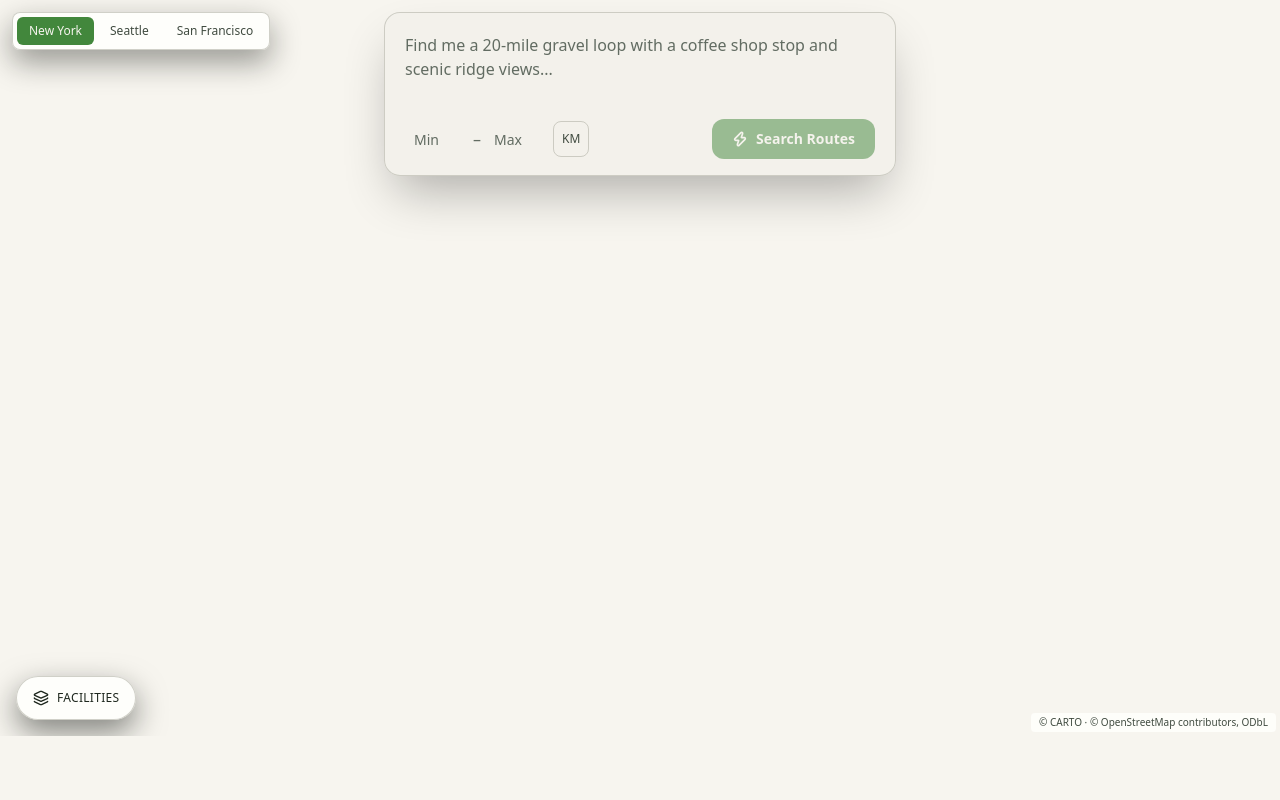
MapExplorer — map-tab search › renders the error state in the panel when the search fails
Replace the text in the text box with "quiet loop" at (640, 65), box [389,17,891,113]
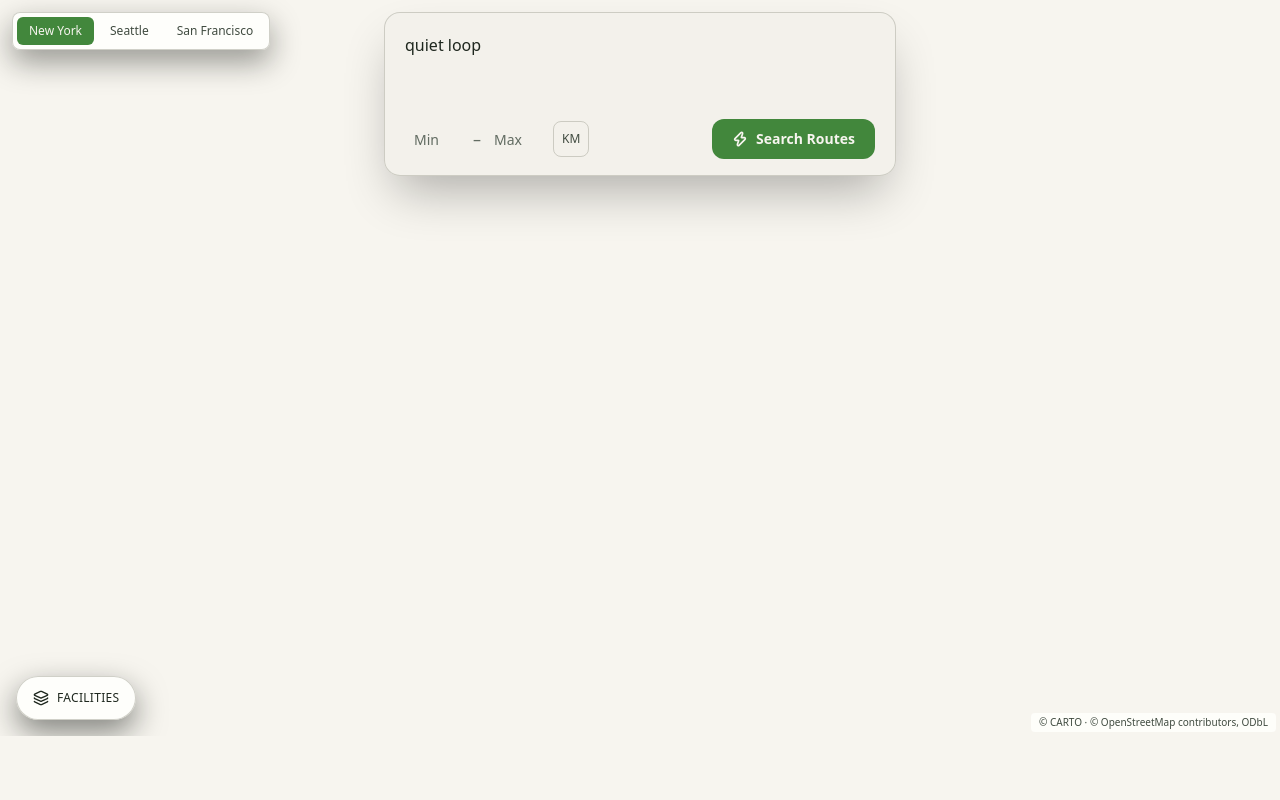
Click the button "Search Routes" at (794, 139), box [712,119,875,159]
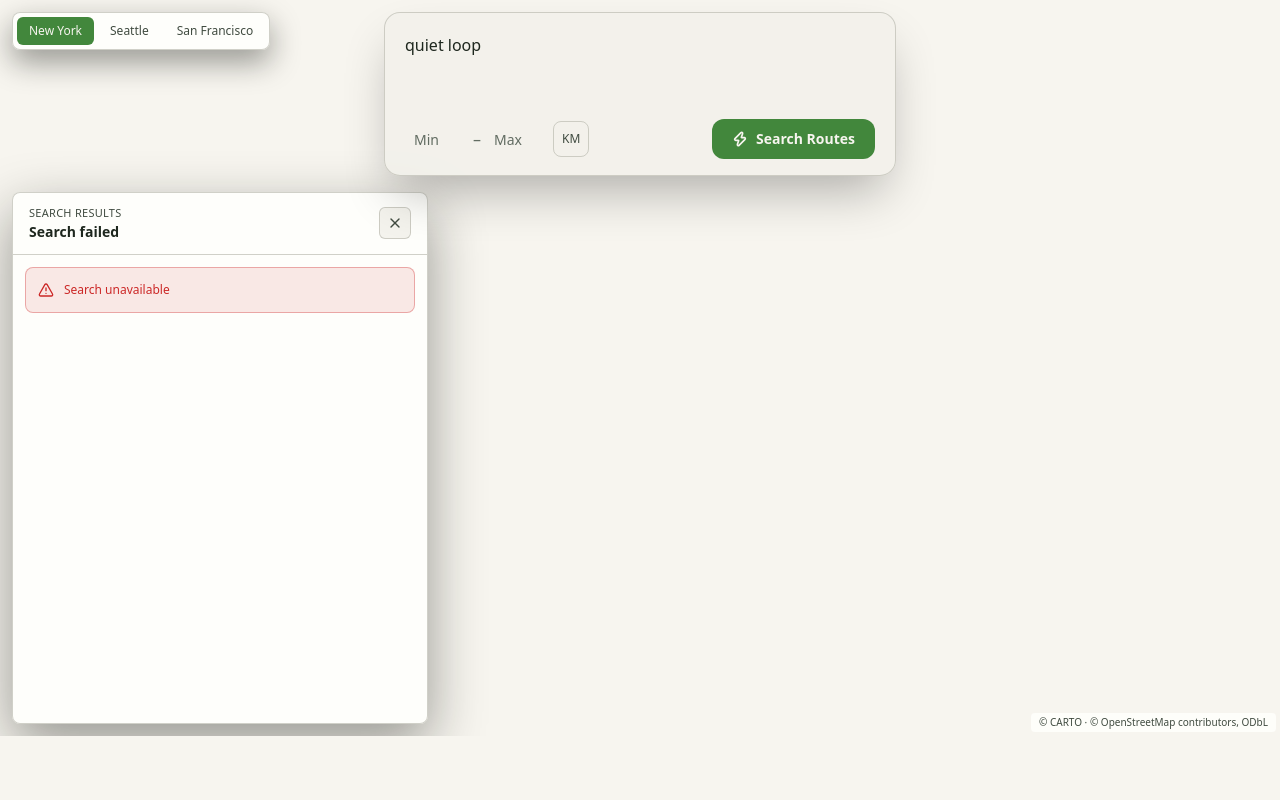
Expected: the text "Search unavailable" is shown, [64,280,170,300]
Expected: the button named "close search" is shown, [379,207,411,239]
